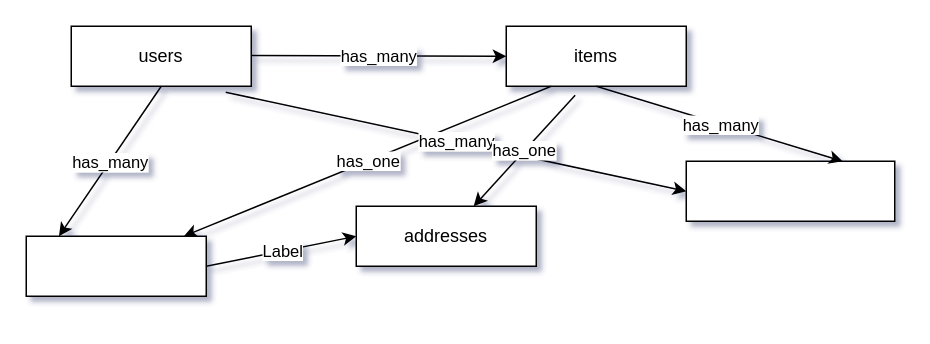
Some shapes in this 930 by 344 pixel diagram are drawn without their labels. Each missing label, with the centre of its shape:
"comments" belongs at point (790, 190).
"purchases" belongs at point (115, 265).
